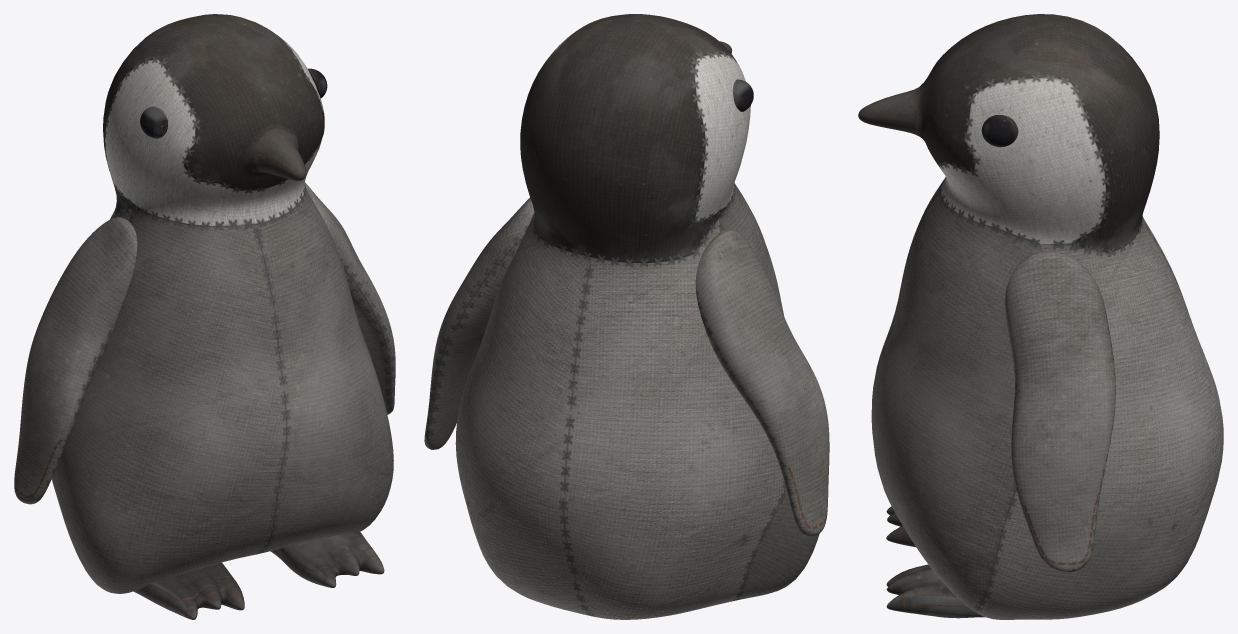
The model's file is PenguinToy.fbx.
3 renders of one model, left to right at view 1: azimuth 30°, elevation 25°; view 2: azimuth 150°, elevation 25°; view 3: azimuth 270°, elevation 25°, orthographic. The views are drawn at different scales.
Parts seen in each view (by area): view 1: Stuffed Toy Penguin.001; view 2: Stuffed Toy Penguin.001; view 3: Stuffed Toy Penguin.001.
Boxes of the visible parts, box(x1,y1,x2,y2) form: Stuffed Toy Penguin.001: box(14, 14, 395, 619); Stuffed Toy Penguin.001: box(424, 14, 829, 619); Stuffed Toy Penguin.001: box(858, 14, 1223, 619).
Bounding box in the file's own units: 19.37 × 26.21 × 15.9.
1 material, 1 textured.
